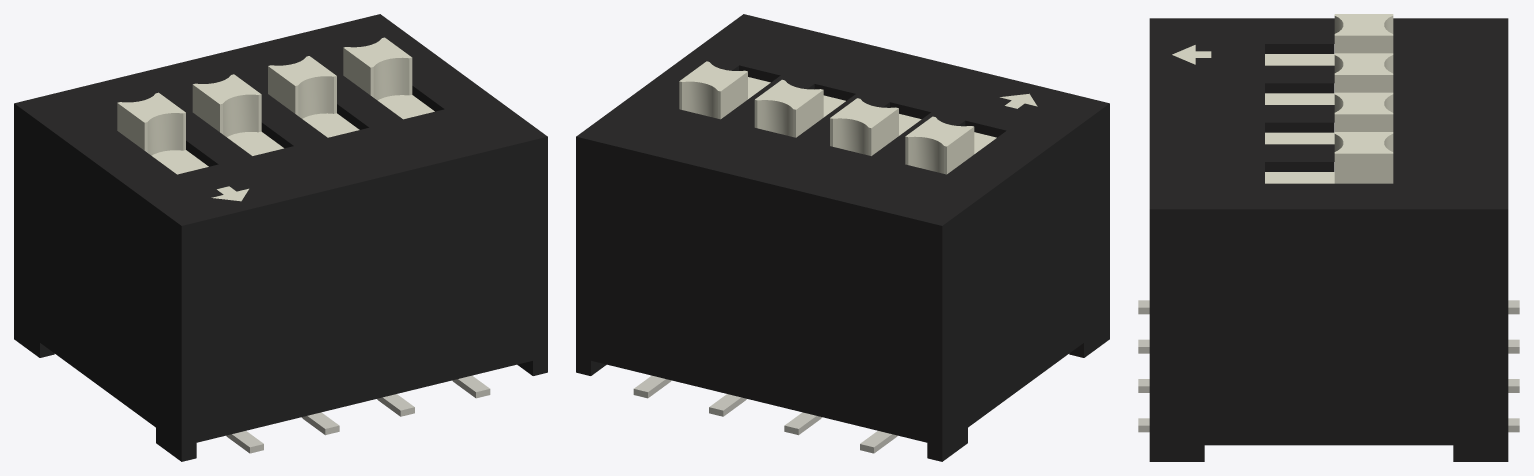
Rendered from kc-sw_dip_spstx04_slide_9.78x12.34mm_w8.61mm_p2.54mm.glb.
3 views of the same model, side by side, from view 1: azimuth 30°, elevation 25°; view 2: azimuth 150°, elevation 25°; view 3: azimuth 270°, elevation 25° (orthographic). The views are drawn at different scales.
Parts seen in each view (by area): view 1: 0_0_0_0, 0.75_0.75_0.6666666666666666_0, 0.6666666666666666_0.6666666666666666_0.5833333333333334_0.8; view 2: 0_0_0_0, 0.75_0.75_0.6666666666666666_0, 0.6666666666666666_0.6666666666666666_0.5833333333333334_0.8; view 3: 0_0_0_0, 0.75_0.75_0.6666666666666666_0, 0.6666666666666666_0.6666666666666666_0.5833333333333334_0.8.
Boxes of the visible parts, x1,y1,x2,y2 form: 0_0_0_0: (14,14,547,461); 0.75_0.75_0.6666666666666666_0: (117,37,434,201); 0.6666666666666666_0.6666666666666666_0.5833333333333334_0.8: (226,375,490,453); 0_0_0_0: (576,14,1109,461); 0.75_0.75_0.6666666666666666_0: (679,61,1037,174); 0.6666666666666666_0.6666666666666666_0.5833333333333334_0.8: (633,375,897,453); 0_0_0_0: (1149,18,1508,461); 0.75_0.75_0.6666666666666666_0: (1172,14,1393,183); 0.6666666666666666_0.6666666666666666_0.5833333333333334_0.8: (1138,300,1519,432).
Bounding box in the file's own units: 1.23 × 0.86 × 1.04.
